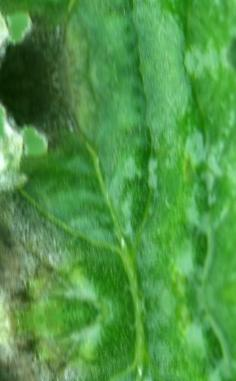Tomato leaf late blight: (0, 48, 236, 333)
